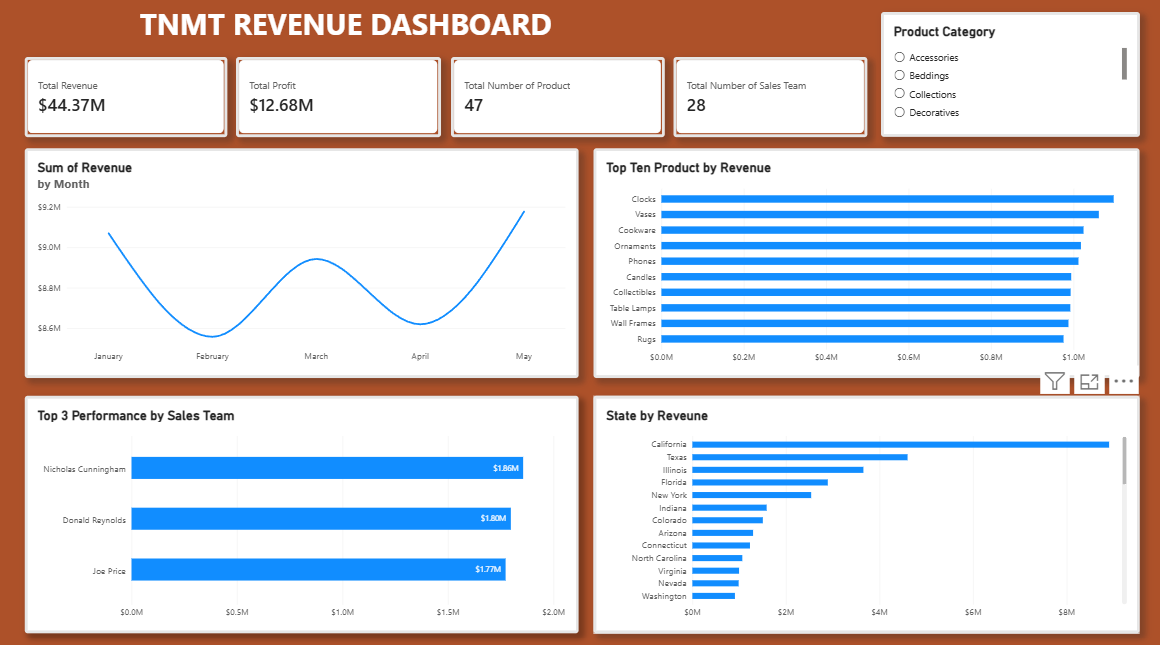

What the dashboard file says about the page in this screenshot:
{"tool":"powerbi","page":{"name":"Dashboard","canvas":[1920,1080],"ordinal":4},"visuals":[{"type":"cardVisual","fields":{"Data":["Sales table.Total Revenue"]},"box":[47.3,107,333.4,131.7],"z":0},{"type":"cardVisual","fields":{"Data":["Sales table.Total Profit"]},"box":[395.2,107,337.6,131.7],"z":1000},{"type":"cardVisual","fields":{"Data":["Sales table.Total Number of Product"]},"box":[749.2,107,352,131.7],"z":2000},{"type":"cardVisual","fields":{"Data":["Sales table.Total Number of Sales Team"]},"box":[1115.6,107,319,131.7],"z":3000},{"type":"lineChart","fields":{"Category":["Sales table.Sales Date.Variation.Date Hierarchy.Month"],"Y":["Sum(Sales table.Revenue)"]},"box":[47.3,257.3,911.8,378.7],"z":4000},{"type":"barChart","title":"Top Ten Product by Revenue ","fields":{"Category":["Products.Product Name"],"Y":["Sum(Sales table.Revenue)"]},"box":[983.9,257.3,899.5,378.7],"z":5000},{"type":"barChart","title":"Top 3  Performance by Sales Team ","fields":{"Category":["Sales Team.Sales Team"],"Y":["Sum(Sales table.Revenue)"]},"box":[47.3,664.8,911.8,391.1],"z":6000},{"type":"barChart","title":"State by Reveune","fields":{"Category":["Store Locations.State"],"Y":["Sum(Sales table.Revenue)"]},"box":[983.9,664.8,899.5,391.1],"z":7000},{"type":"textbox","box":[236.7,18.5,963.3,76.2],"z":8000},{"type":"listSlicer","fields":{"Values":["Products.Product Category"]},"box":[1457.3,32.9,426.1,205.8],"z":9000}]}

Visuals, with their boxes in screenshot pixels (x1, y1, x2, y2), scaled from the page's 1920x1080 canvas onto the 1160x645 screenshot:
cardVisual - Sales table.Total Revenue: box=[29, 64, 230, 143]
cardVisual - Sales table.Total Profit: box=[239, 64, 443, 143]
cardVisual - Sales table.Total Number of Product: box=[453, 64, 665, 143]
cardVisual - Sales table.Total Number of Sales Team: box=[674, 64, 867, 143]
lineChart - Sales table.Sales Date.Variation.Date Hierarchy.Month x Sum(Sales table.Revenue): box=[29, 154, 579, 380]
"Top Ten Product by Revenue " barChart: box=[594, 154, 1138, 380]
"Top 3  Performance by Sales Team " barChart: box=[29, 397, 579, 631]
"State by Reveune" barChart: box=[594, 397, 1138, 631]
textbox: box=[143, 11, 725, 57]
listSlicer - Products.Product Category: box=[880, 20, 1138, 143]
